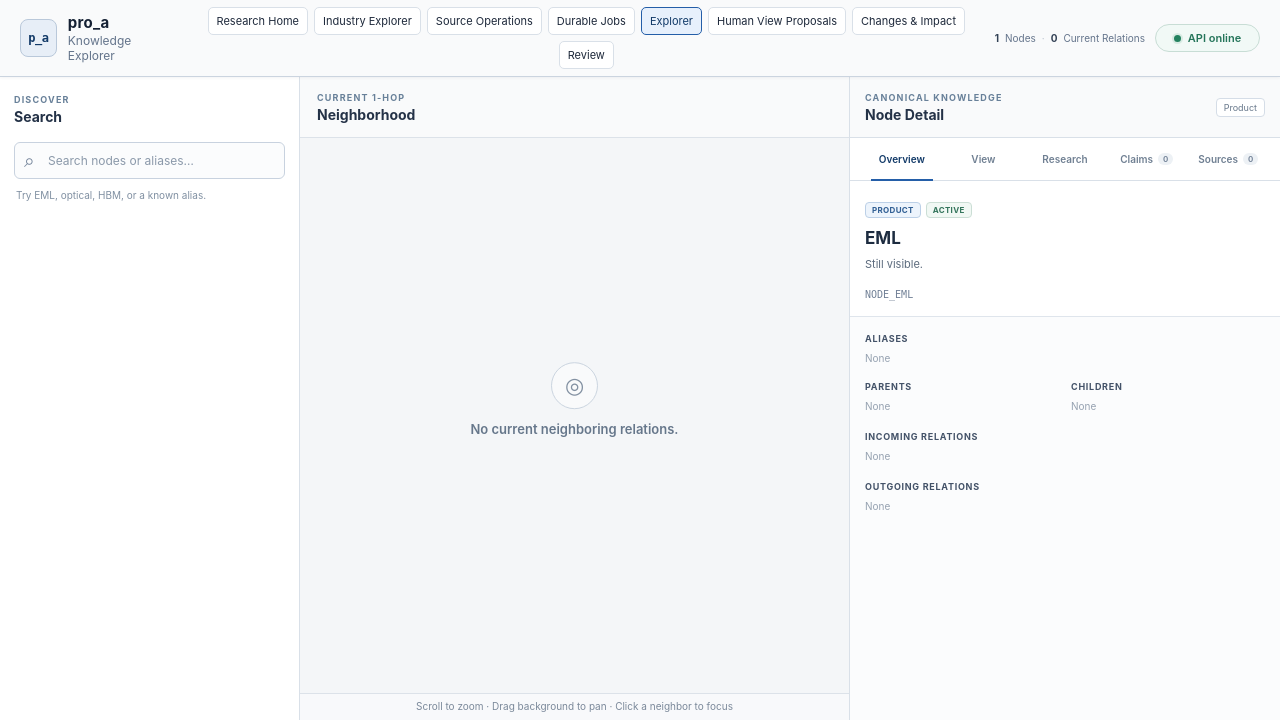
Test case: App error boundary › keeps the selected Node usable when the Research endpoint fails
Expected: the heading "EML" is shown, [865,228,901,248]
Expected: the text "Still visible." is shown, [865,257,923,271]
What coordinates should you click on to do the following:
click the tab "Research"
I would click on:
 (1065, 159)
Its box is [1024,138,1106,180].
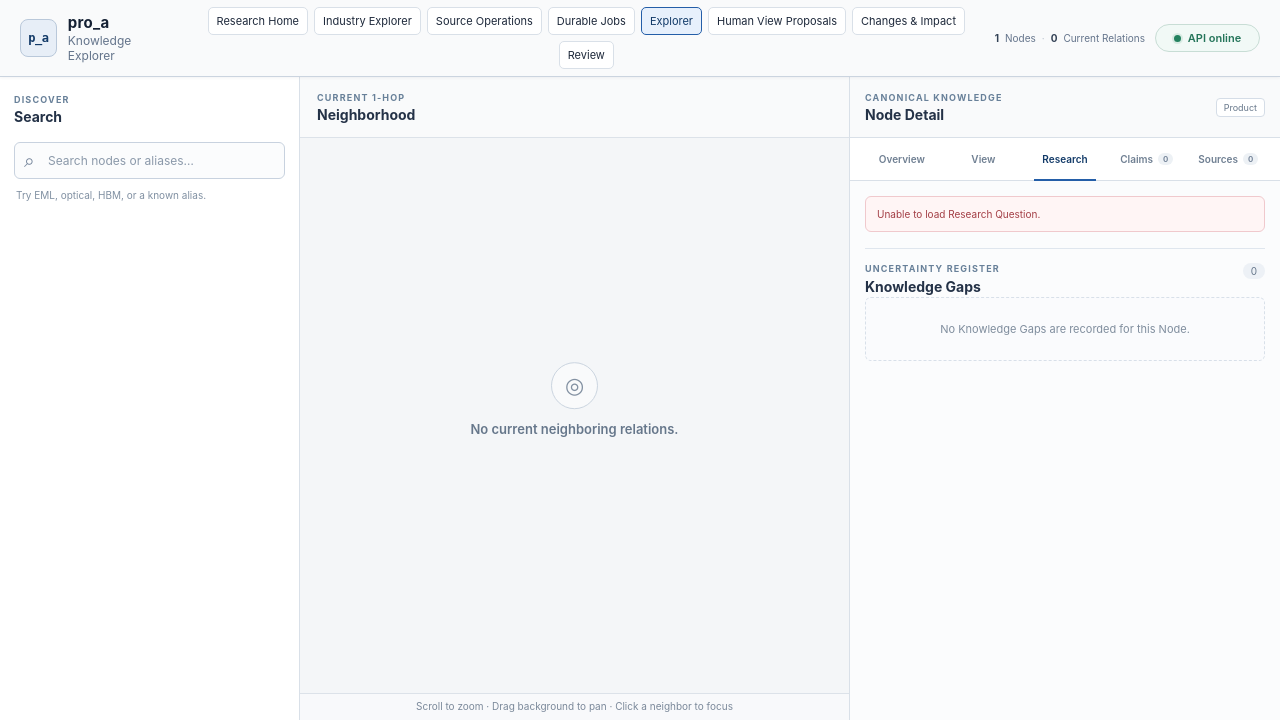
Expected: the tab "Overview" is shown, [861,138,943,180]
Result: the text "Unable to load Research Question." is shown at [865,196,1265,232]
